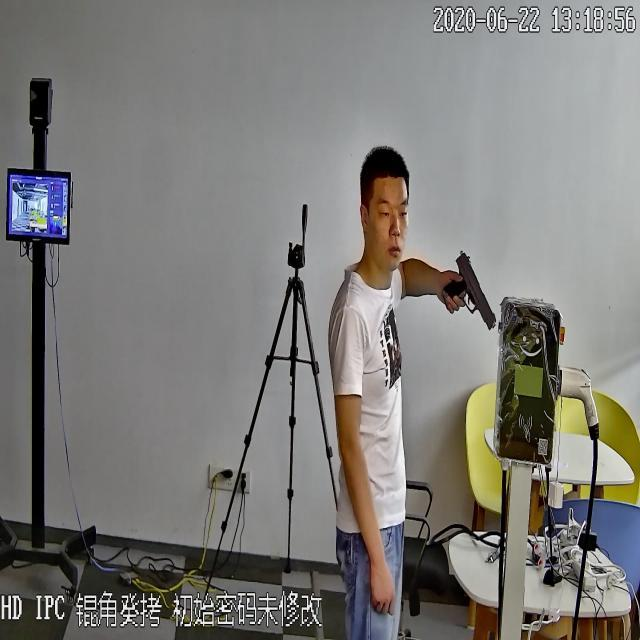gun-knife-thesis - v11 Yolov5 augmented: (442, 249, 497, 332)
